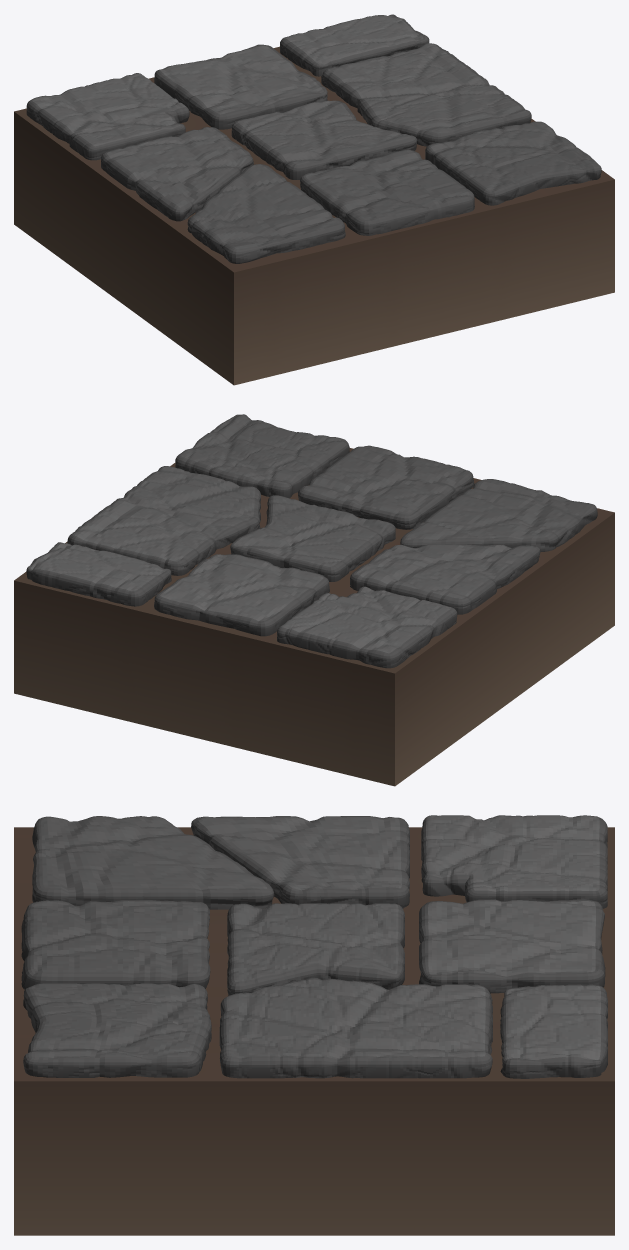
Rendered from TileCenter.fbx.
3 views of the same model, one above another, from view 1: azimuth 30°, elevation 25°; view 2: azimuth 150°, elevation 25°; view 3: azimuth 270°, elevation 25° (orthographic). The views are drawn at different scales.
Visible parts, largest first — view 1: Cube.003, Floor.002; view 2: Cube.003, Floor.002; view 3: Cube.003, Floor.002.
Part boxes in pixels (x1,y1,x2,y2): Cube.003: (26, 14, 601, 263); Floor.002: (14, 46, 614, 385); Cube.003: (26, 414, 597, 668); Floor.002: (14, 448, 614, 786); Cube.003: (21, 815, 607, 1078); Floor.002: (14, 827, 614, 1235).
Bounding box in the file's own units: 600 × 191 × 600.
